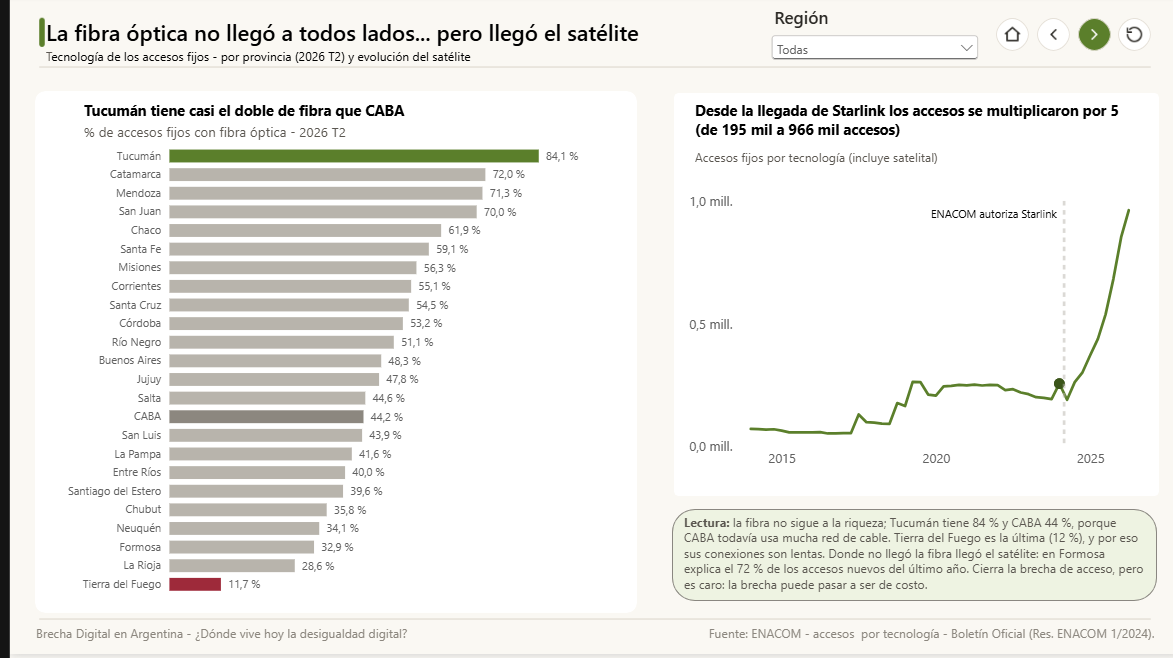

The page's visual inventory and layout, read from the dashboard file:
{"tool":"powerbi","page":{"name":"4.Tecnología","canvas":[1280,720],"ordinal":4},"visuals":[{"type":"textbox","box":[39.8,22.4,687.4,40.8],"z":0},{"type":"shape","box":[726.4,106.1,530.6,440.9],"z":0,"group":"g2"},{"type":"shape","box":[724.2,561.2,530.6,100.6],"z":0,"group":"g1"},{"type":"textbox","box":[39.8,57.1,562,25.5],"z":1000},{"type":"textbox","box":[737.2,566.4,503.2,91.1],"z":1000,"group":"g1"},{"type":"actionButton","box":[1079.1,24.5,36,36],"z":2000},{"type":"actionButton","box":[1124,24,36,36],"z":3000},{"type":"actionButton","box":[1168,24,36,36],"z":4000},{"type":"actionButton","box":[1212,24,36,36],"z":5000},{"type":"textbox","box":[28,687.8,421.2,28],"z":6000},{"type":"textbox","box":[652,688,600,28],"z":7000},{"type":"shape","box":[27.4,103.9,658.6,571.1],"z":8000},{"type":"group","id":"g1","title":"Grupo 2","box":[724.2,561.2,530.6,100.6],"z":9000},{"type":"slicer","fields":{"Values":["dim_Provincias.Region"]},"box":[828.2,10.9,236.3,62.4],"z":10000},{"type":"group","id":"g2","title":"Grupo 1","box":[726.4,106.1,530.6,440.9],"z":11000},{"type":"clusteredBarChart","fields":{"Category":["dim_Provincias.Provincia"],"Y":["Medidas.% fibra"]},"box":[39.4,137.8,631.2,537.2],"z":12000},{"type":"textbox","box":[81,113.8,358.8,31.7],"z":13000},{"type":"textbox","box":[81,137.8,352.3,29.5],"z":14000},{"type":"textbox","box":[749.4,113.8,480.3,53.6],"z":15000},{"type":"textbox","box":[749.4,167.4,480.3,32.8],"z":16000},{"type":"lineChart","fields":{"Category":["dim_Fecha.Fecha"],"Y":["Medidas.Accesos Otros","Medidas.Punto Starlink"]},"box":[726.4,200.2,529.5,337],"z":17000}]}

Visuals, with their boxes in screenshot pixels (x1, y1, x2, y2), scaled from the page's 1280x720 canvas onto the 1173x658 screenshot:
textbox: region(36, 20, 666, 58)
shape: region(666, 97, 1152, 500)
shape: region(664, 513, 1150, 605)
textbox: region(36, 52, 551, 75)
textbox: region(676, 518, 1137, 601)
actionButton: region(989, 22, 1022, 55)
actionButton: region(1030, 22, 1063, 55)
actionButton: region(1070, 22, 1103, 55)
actionButton: region(1111, 22, 1144, 55)
textbox: region(26, 629, 412, 654)
textbox: region(597, 629, 1147, 654)
shape: region(25, 95, 629, 617)
"Grupo 2" group: region(664, 513, 1150, 605)
slicer - dim_Provincias.Region: region(759, 10, 976, 67)
"Grupo 1" group: region(666, 97, 1152, 500)
clusteredBarChart - dim_Provincias.Provincia x Medidas.% fibra: region(36, 126, 615, 617)
textbox: region(74, 104, 403, 133)
textbox: region(74, 126, 397, 153)
textbox: region(687, 104, 1127, 153)
textbox: region(687, 153, 1127, 183)
lineChart - dim_Fecha.Fecha x Medidas.Accesos Otros: region(666, 183, 1151, 491)
